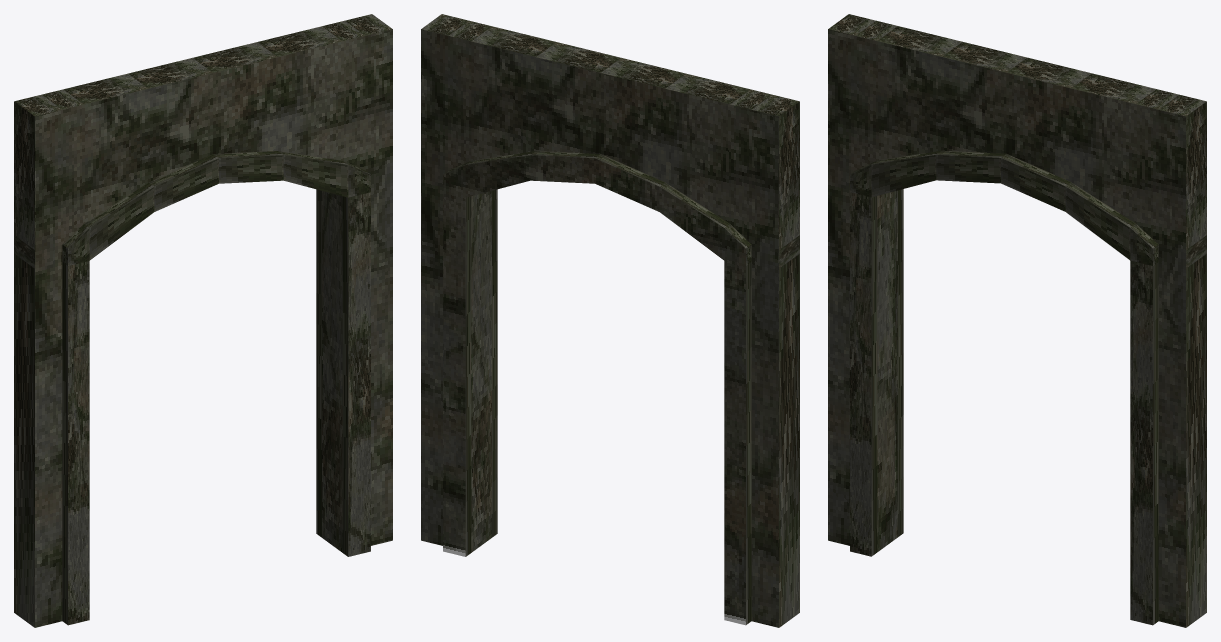
File: tavern_wall_base_door.glb
The picture shows the model from 3 angles, left to right: view 1: azimuth 30°, elevation 25°; view 2: azimuth 150°, elevation 25°; view 3: azimuth 330°, elevation 25°; orthographic projection.
Visible parts, largest first — view 1: tavern_wall_base_door; view 2: tavern_wall_base_door; view 3: tavern_wall_base_door.
Boxes of the visible parts, box(x1,y1,x2,y2) form: tavern_wall_base_door: box(14, 14, 392, 627); tavern_wall_base_door: box(421, 14, 799, 627); tavern_wall_base_door: box(828, 14, 1206, 627).
Bounding box in the file's own units: 3 × 4.09 × 0.464.
Materials: 1 (1 with a texture image).
